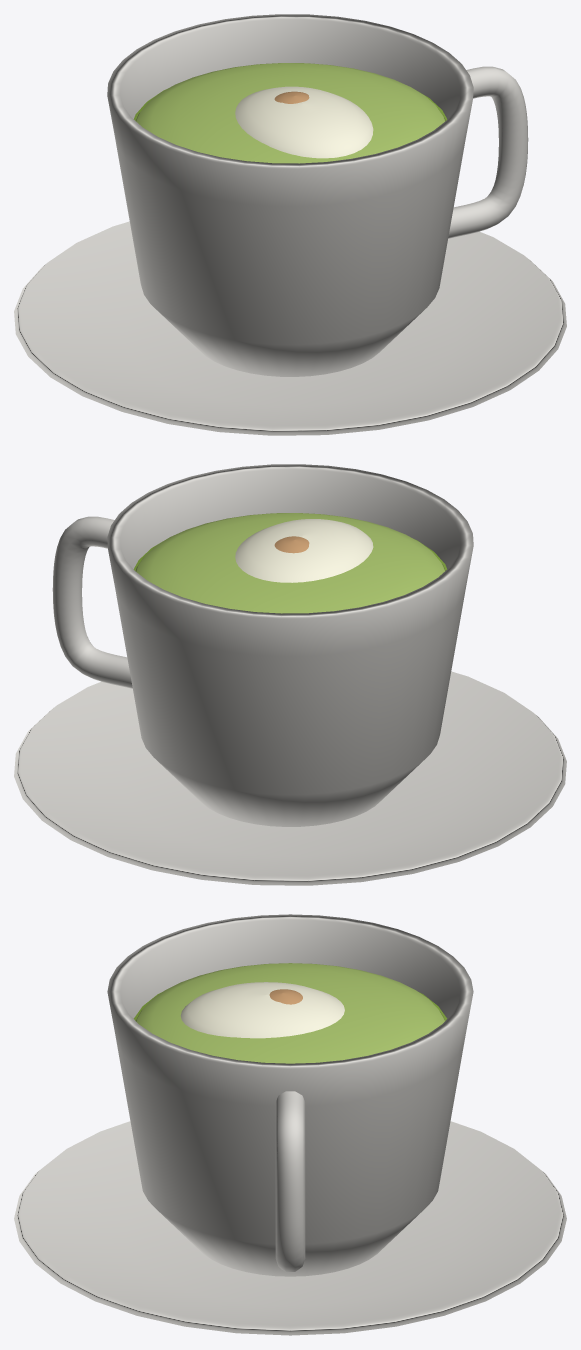
File: alba-matcha-latte.glb
The picture shows the model from 3 angles, top to bottom: view 1: azimuth 30°, elevation 25°; view 2: azimuth 150°, elevation 25°; view 3: azimuth 270°, elevation 25°; orthographic projection.
Bounding box in the file's own units: 0.148 × 0.078 × 0.148.
